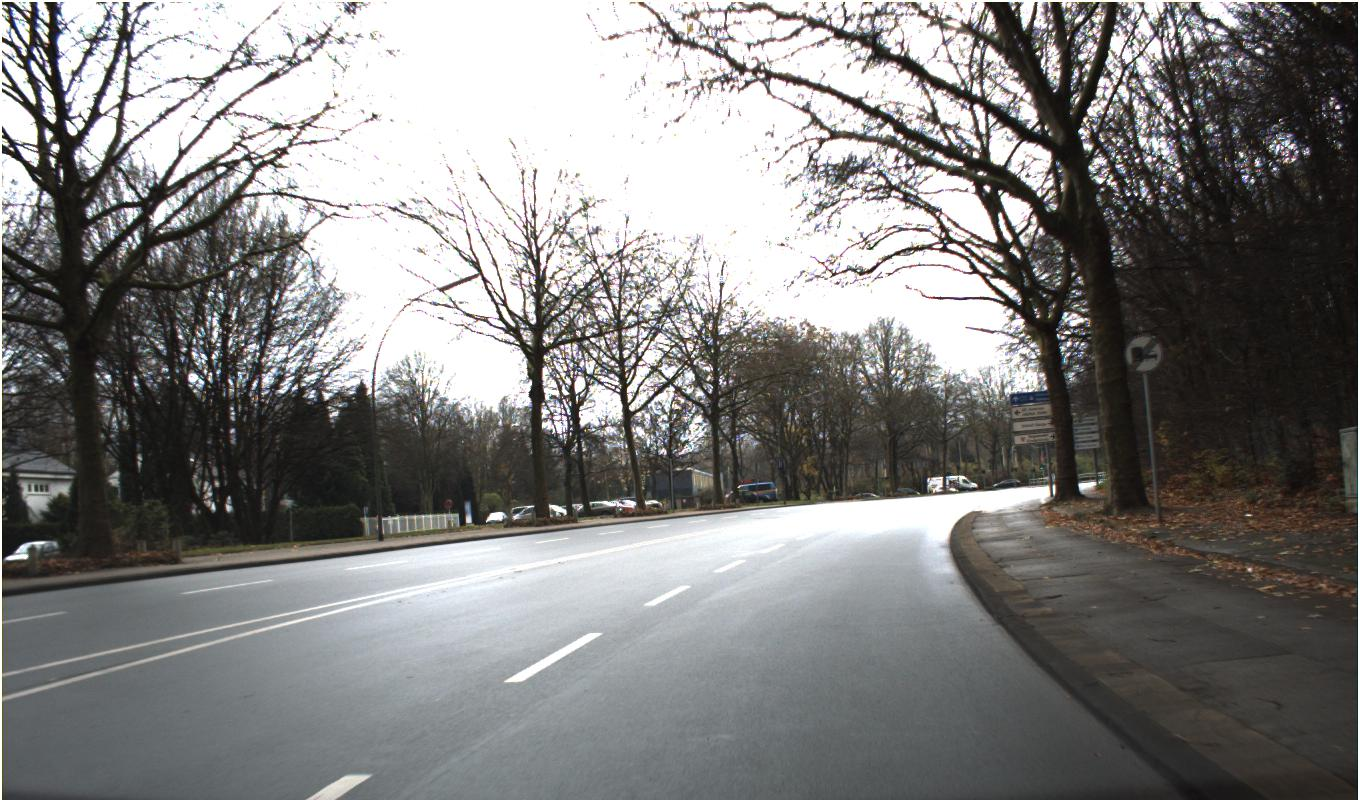sign: (1123, 333, 1163, 373)
